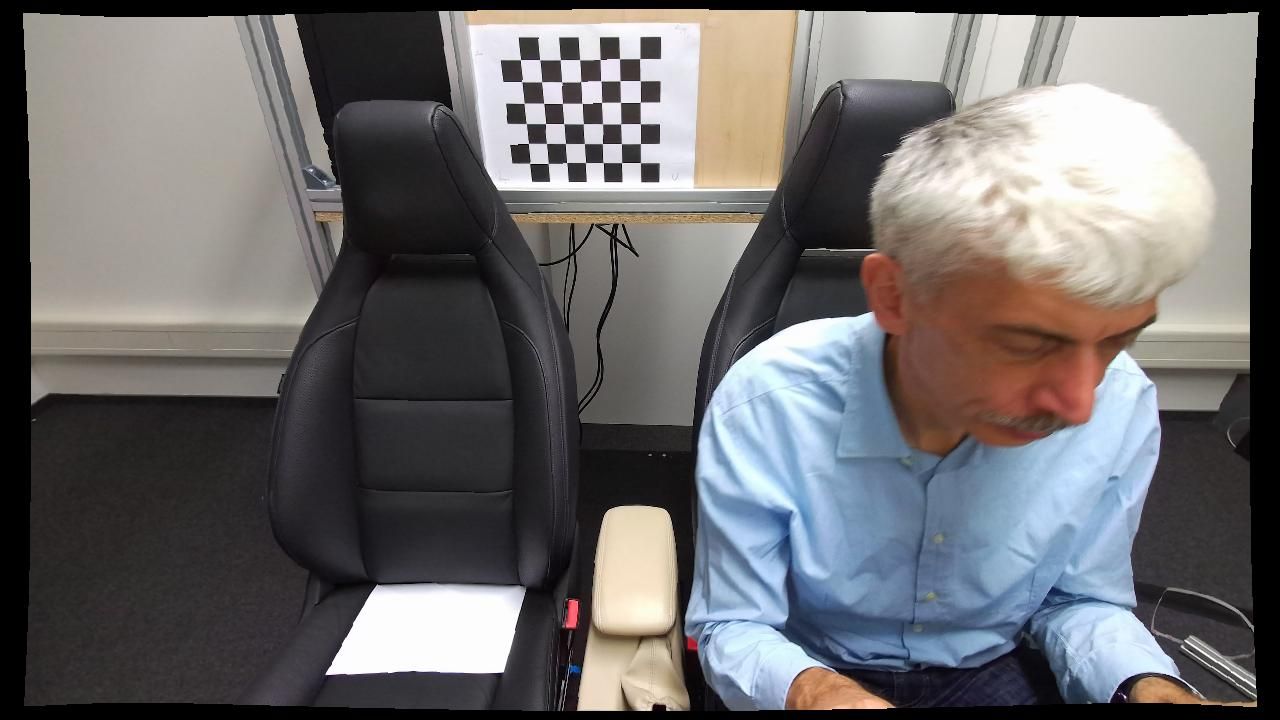Distracted: (683, 78, 1218, 716)
